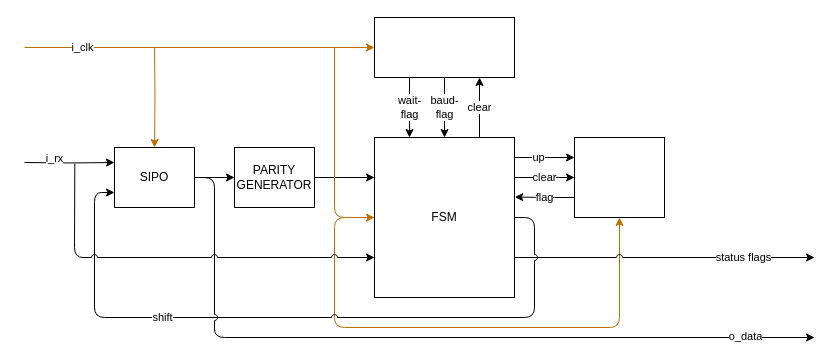
This 840x363 diagram has some shape labels left out. Each missing label, with the box of its shape:
BAUD - COUNTER: (374, 16, 514, 78)
BIT - COUNTER: (574, 136, 664, 218)
